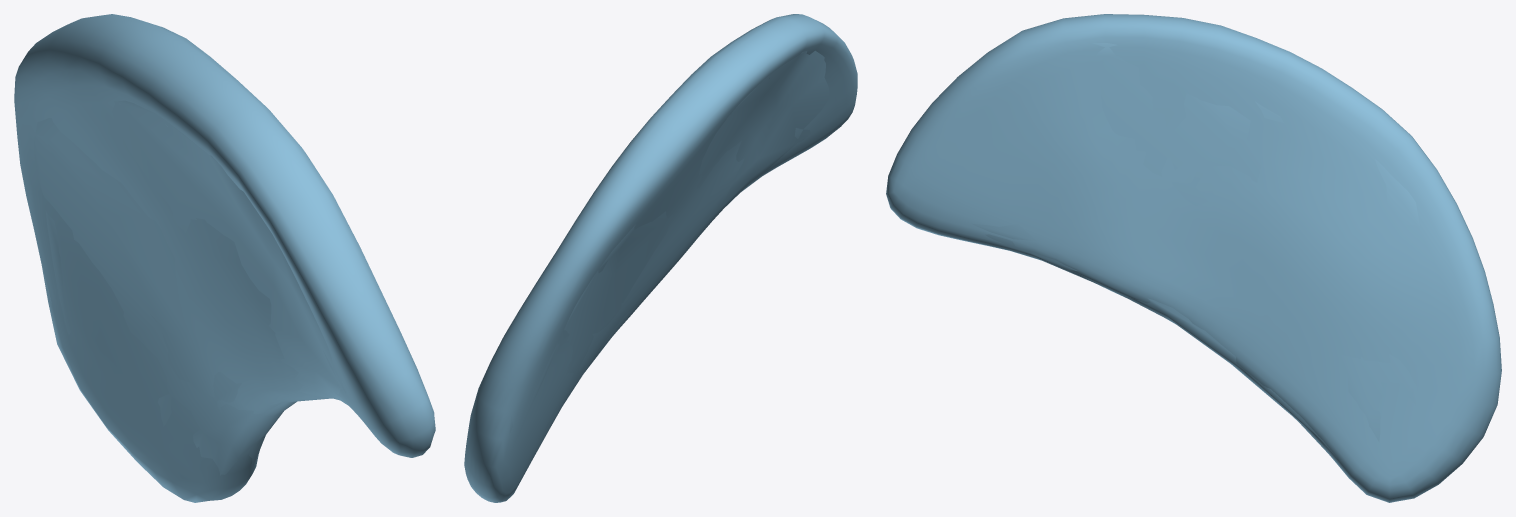
File: Scapular Cartilage L.fbx
3 views of the same model, side by side, from view 1: azimuth 30°, elevation 25°; view 2: azimuth 150°, elevation 25°; view 3: azimuth 270°, elevation 25° (orthographic). The views are drawn at different scales.
Parts seen in each view (by area): view 1: Scapular Cartilage L, Scapular Cartilage L low; view 2: Scapular Cartilage L, Scapular Cartilage L low; view 3: Scapular Cartilage L, Scapular Cartilage L low.
Boxes of the visible parts, x1,y1,x2,y2 form: Scapular Cartilage L: (14,14,435,502); Scapular Cartilage L low: (34,100,358,475); Scapular Cartilage L: (464,14,857,502); Scapular Cartilage L low: (509,50,829,441); Scapular Cartilage L: (886,14,1501,502); Scapular Cartilage L low: (972,43,1419,463).
Bounding box in the file's own units: 6.72 × 14.57 × 19.45.
